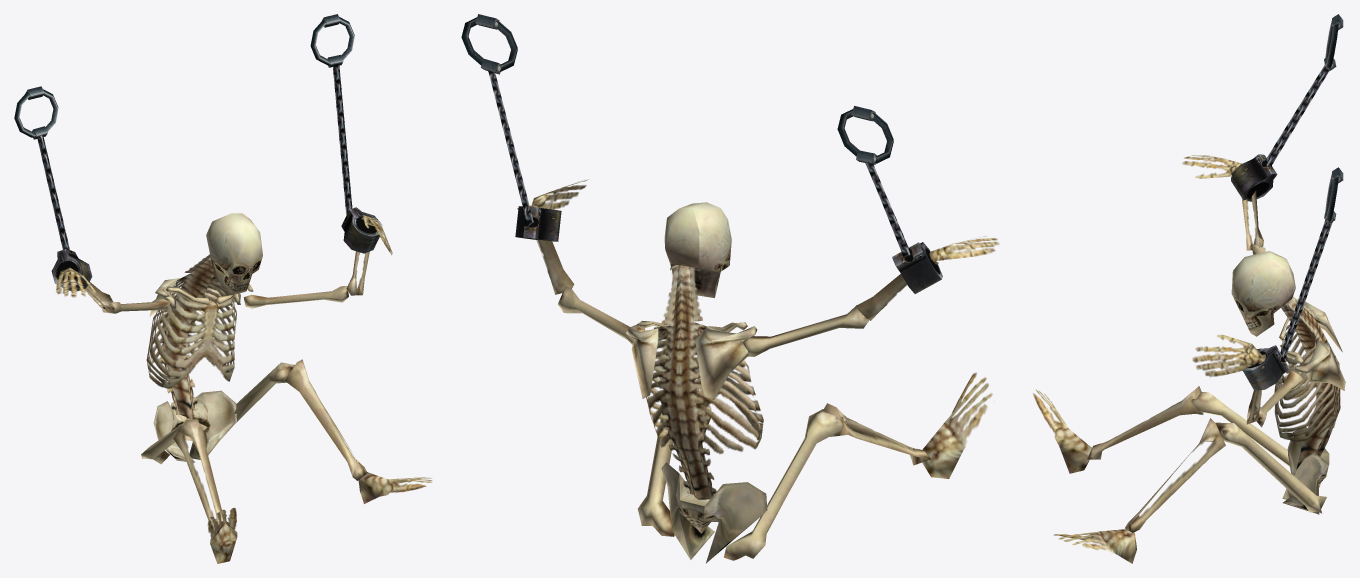
The model's file is d_sk_sit5.glb.
3 renders of one model, left to right at view 1: azimuth 30°, elevation 25°; view 2: azimuth 150°, elevation 25°; view 3: azimuth 270°, elevation 25°, orthographic. The views are drawn at different scales.
Parts seen in each view (by area): view 1: d_sk_sit5; view 2: d_sk_sit5; view 3: d_sk_sit5.
Part boxes in pixels (x1,y1,x2,y2): d_sk_sit5: (14,14,432,563); d_sk_sit5: (461,14,999,563); d_sk_sit5: (1033,14,1345,563).
Size of the model in its own units: 1.28 by 1.35 by 0.911.
5 materials, 5 textured.
